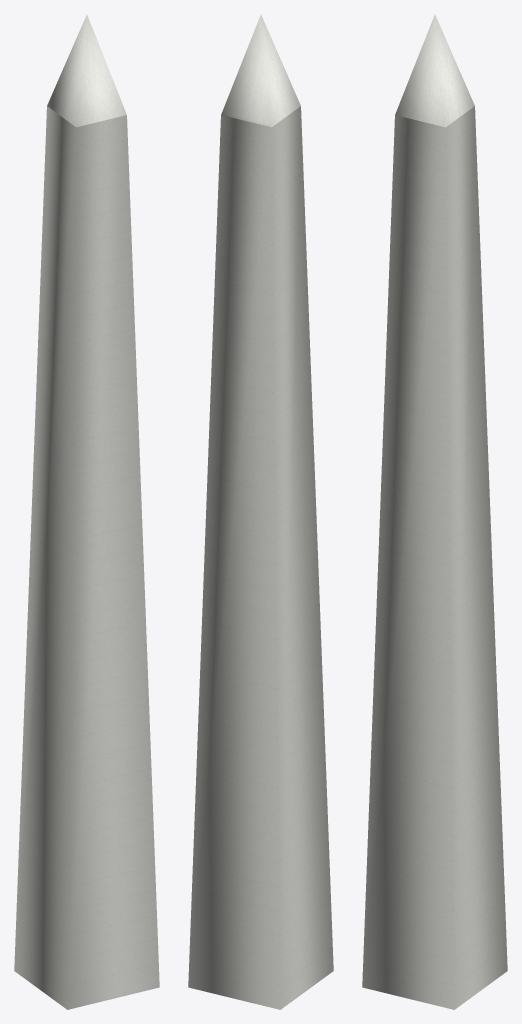
The model's file is bldg_far_02.gltf.
3 renders of one model, left to right at view 1: azimuth 30°, elevation 25°; view 2: azimuth 150°, elevation 25°; view 3: azimuth 330°, elevation 25°, orthographic.
Parts seen in each view (by area): view 1: bldg_far_02.spire, bldg_far_02.tip; view 2: bldg_far_02.spire, bldg_far_02.tip; view 3: bldg_far_02.spire, bldg_far_02.tip.
Boxes of the visible parts, left/top/right/bottom form: bldg_far_02.spire: left=14, top=106, right=159, bottom=1009; bldg_far_02.tip: left=47, top=14, right=126, bottom=127; bldg_far_02.spire: left=188, top=106, right=333, bottom=1009; bldg_far_02.tip: left=221, top=14, right=300, bottom=127; bldg_far_02.spire: left=362, top=106, right=507, bottom=1009; bldg_far_02.tip: left=395, top=14, right=474, bottom=127.
Bounding box in the file's own units: 7.94 × 79.42 × 7.94.
Materials: 1 (1 with a texture image).
